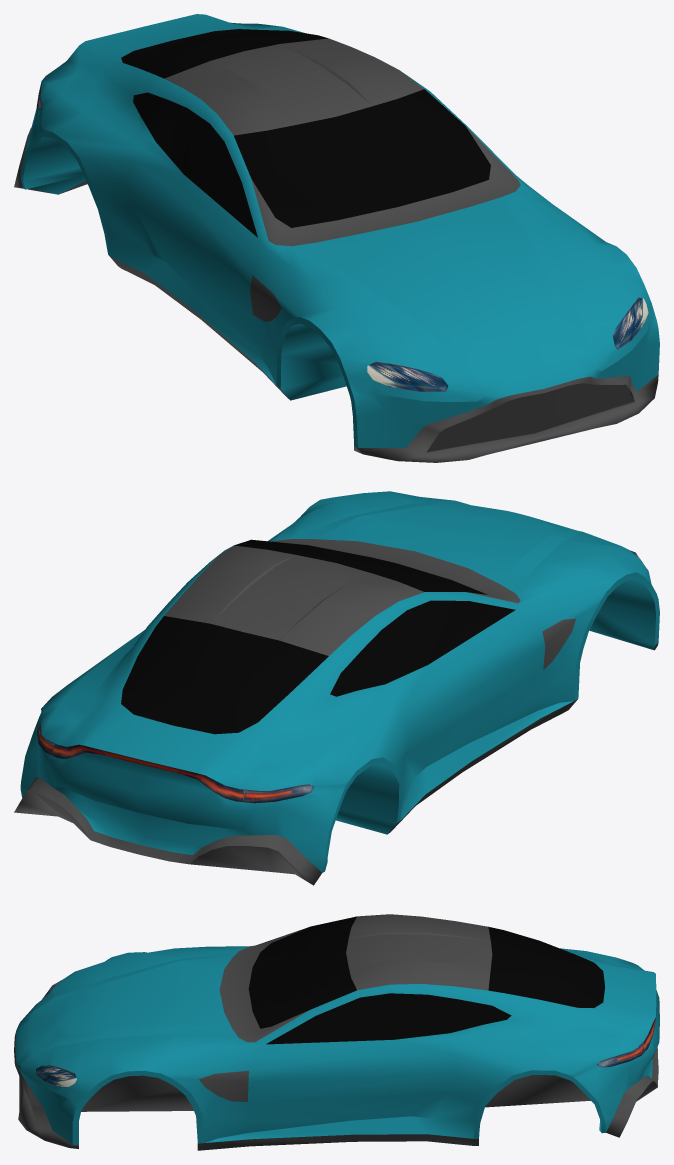
Rendered from RoyalRacingCar.fbx.
The picture shows the model from 3 angles, top to bottom: view 1: azimuth 30°, elevation 25°; view 2: azimuth 150°, elevation 25°; view 3: azimuth 270°, elevation 25°; orthographic projection. The views are drawn at different scales.
Parts seen in each view (by area): view 1: Plane; view 2: Plane; view 3: Plane.
Part boxes in pixels (<box>): Plane: <box>14,14,659,462</box>; Plane: <box>14,491,659,885</box>; Plane: <box>14,914,659,1150</box>.
Size of the model in its own units: 129 by 76.04 by 296.
